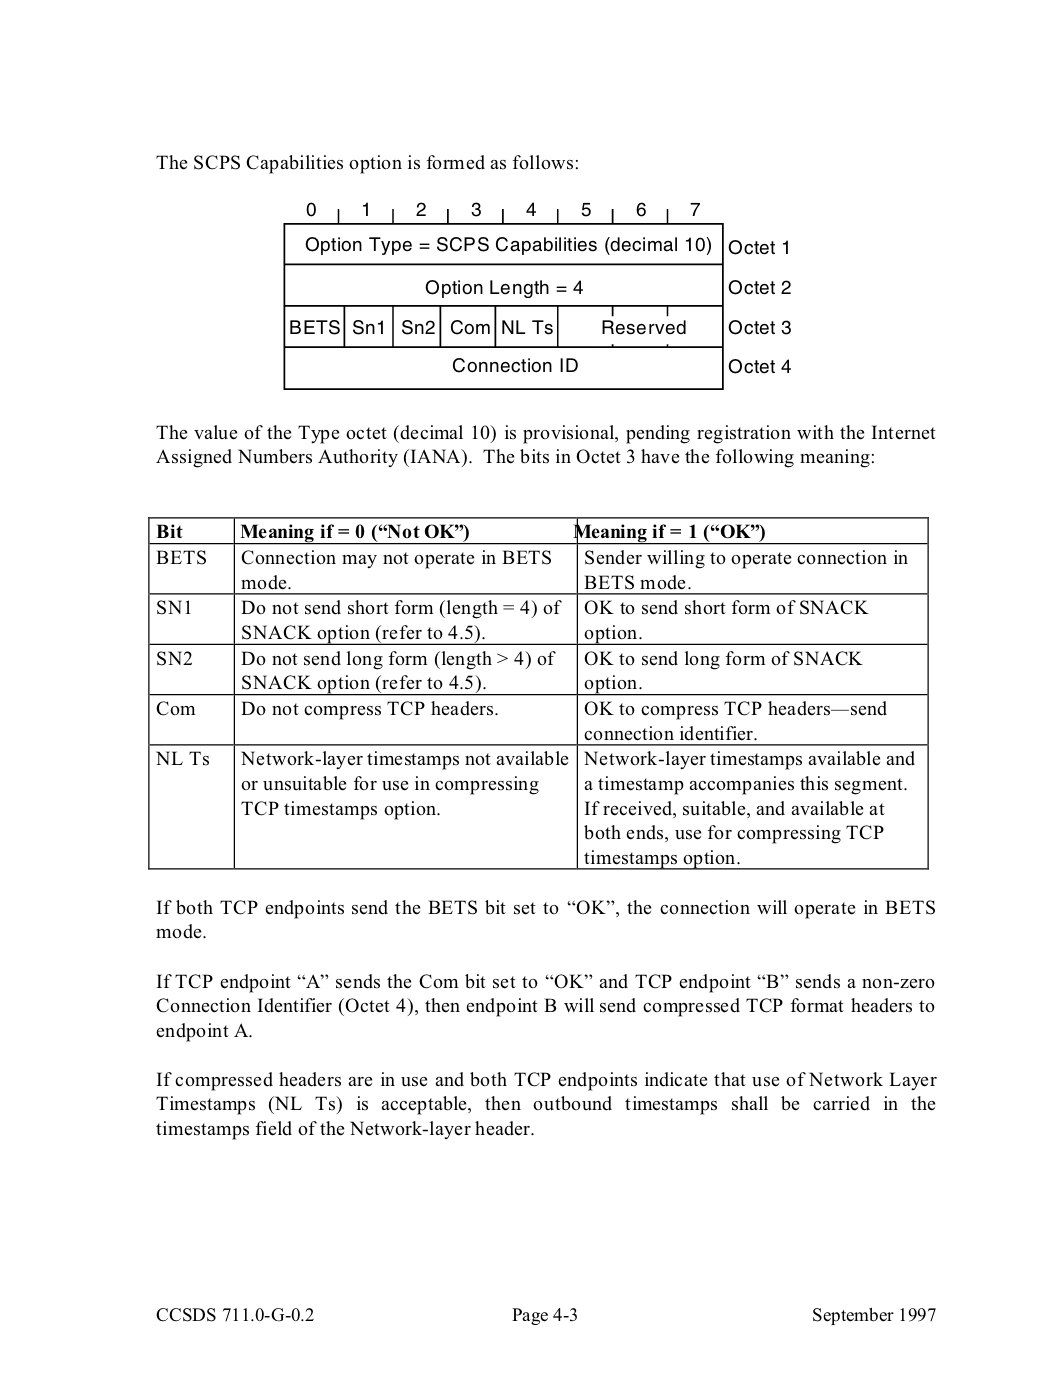Table: (148, 515, 928, 870)
figure: (283, 201, 790, 390)
